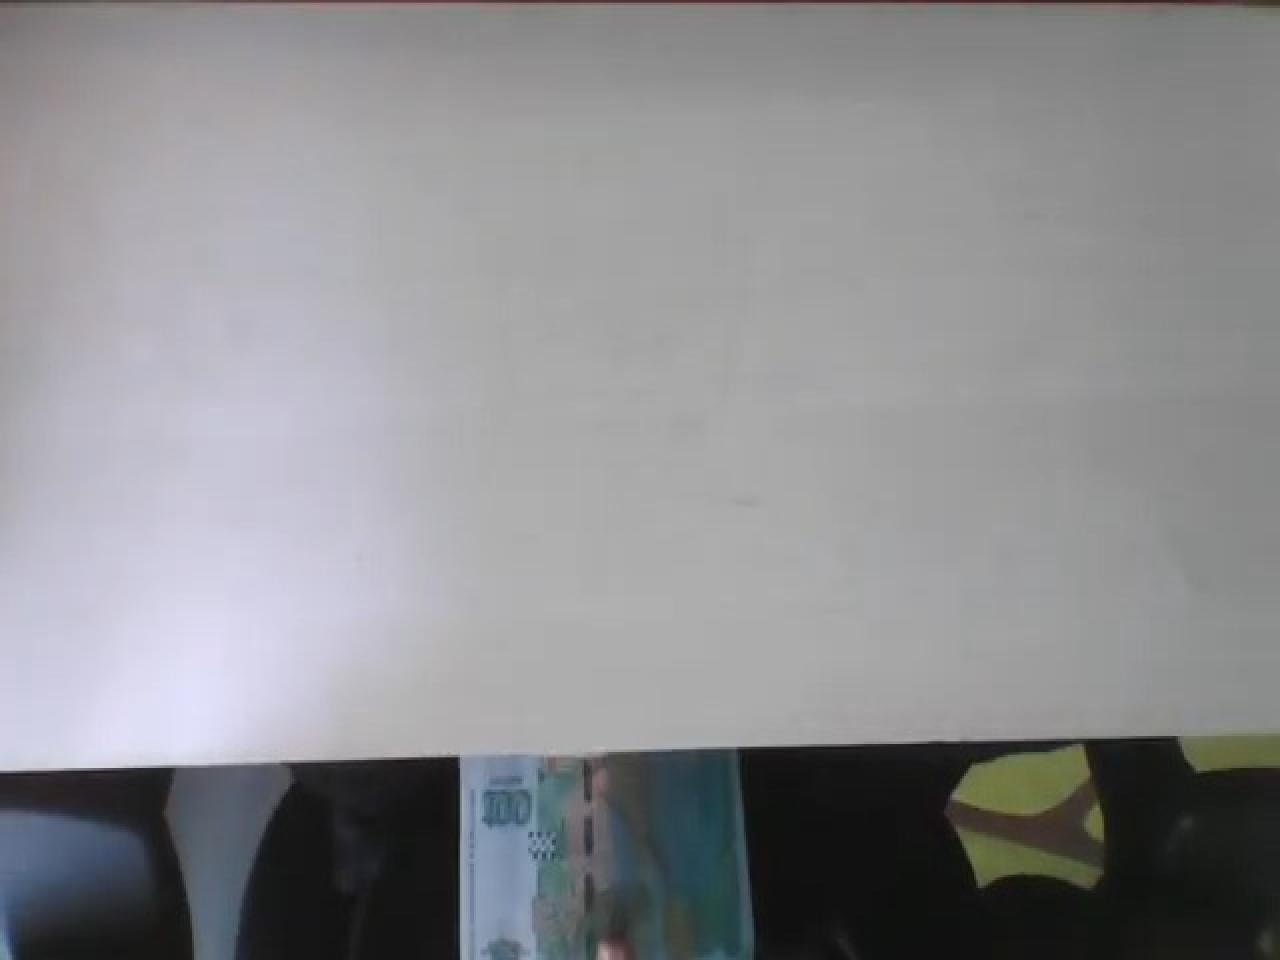100leva: (2, 5, 1276, 778), (478, 787, 532, 835)
